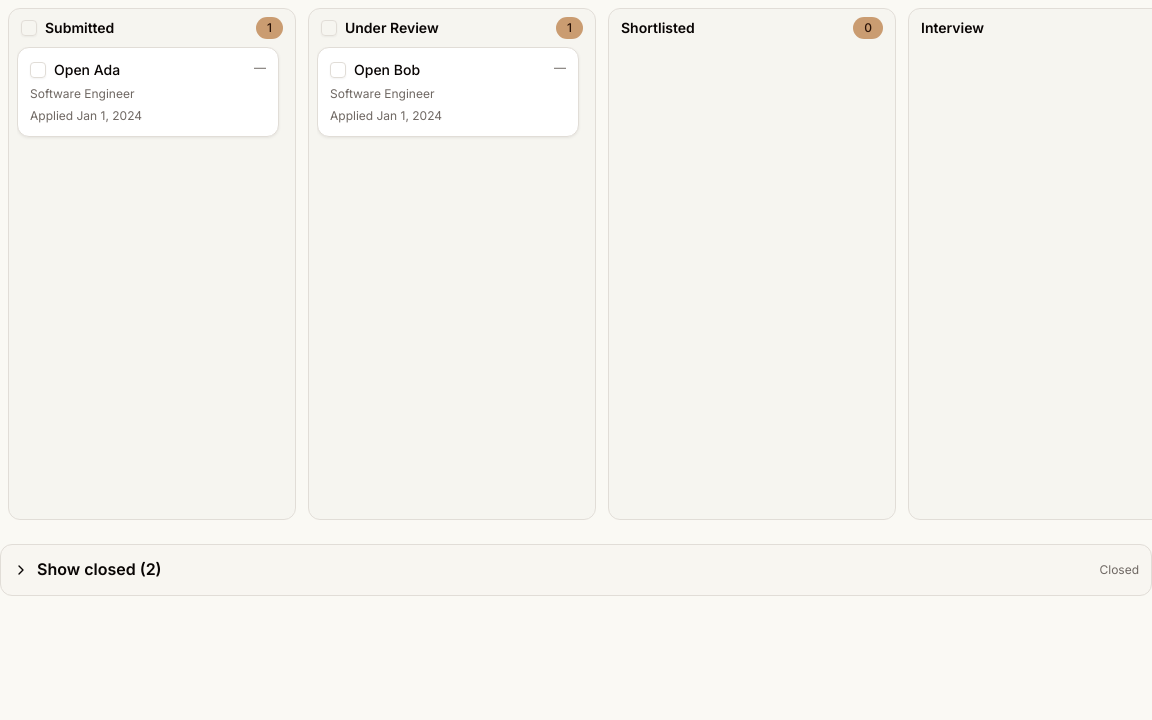
AtsPipelineView — bulk selection (P-2.10) › removes the toolbar when selection is cleared via Clear button
Click the checkbox with test id "candidate-select-app-1" at (38, 70), box [30,62,46,78]
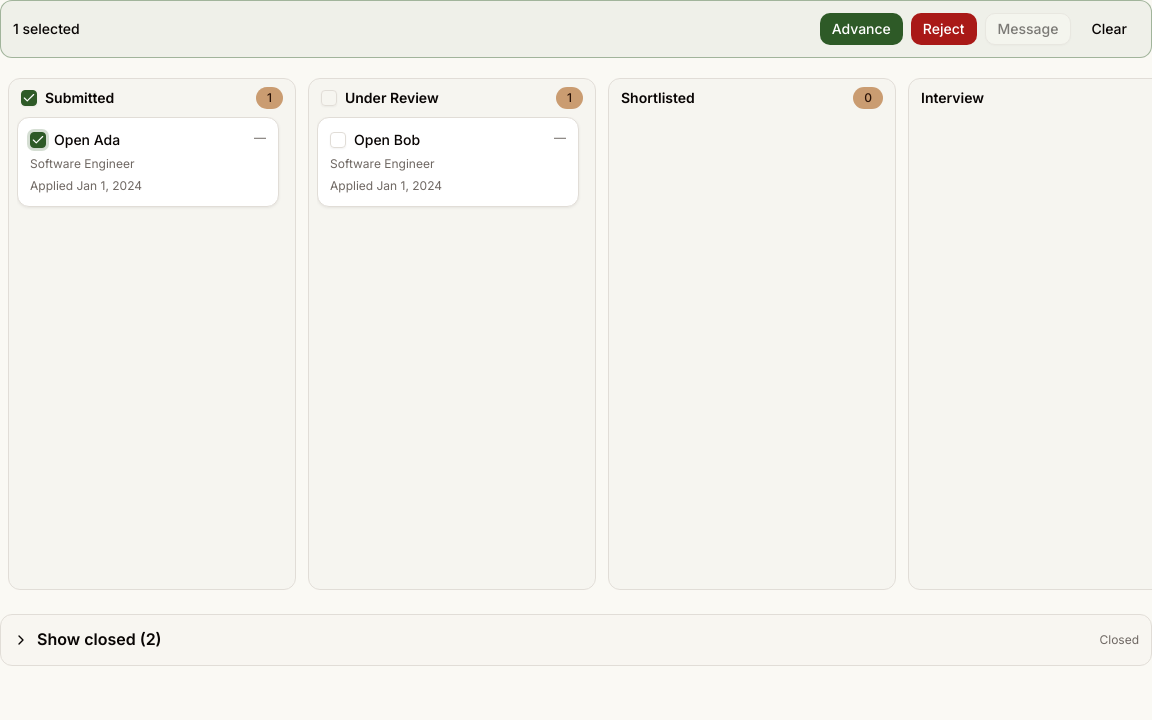
Result: the element with test id "bulk-action-toolbar" is shown at [0,0,1151,58]
Click the button with test id "bulk-clear-button" at (1109, 29), box [1080,13,1139,45]
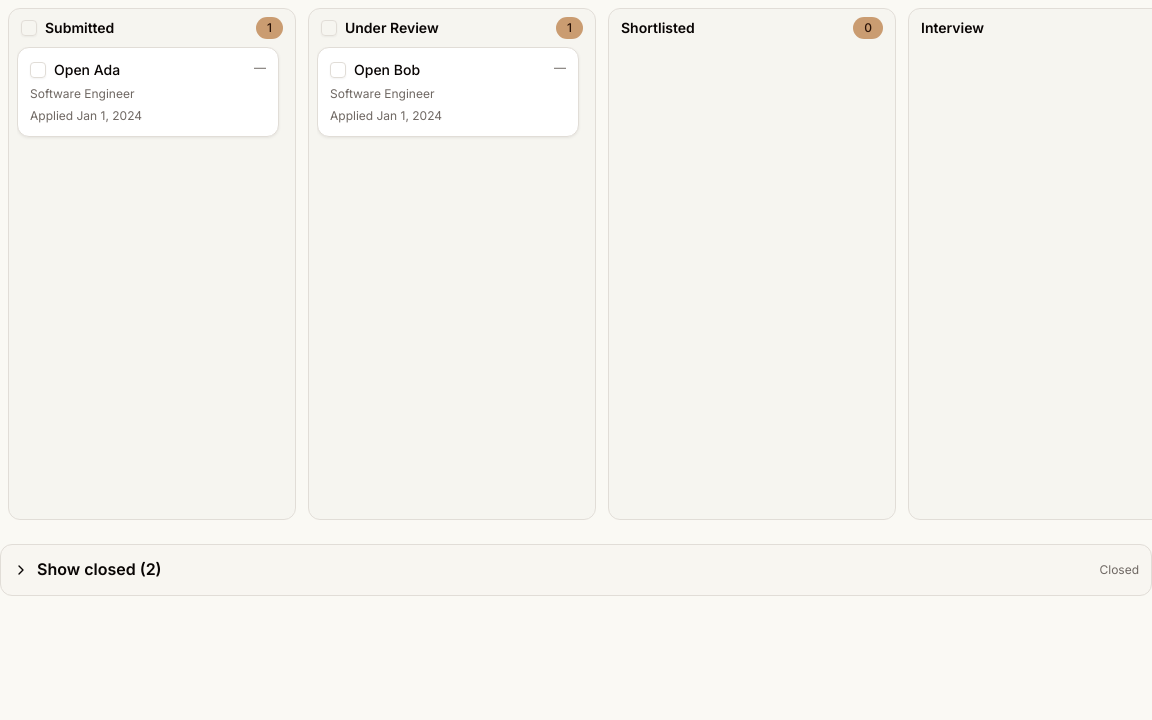
Result: the element with test id "bulk-action-toolbar" is gone
